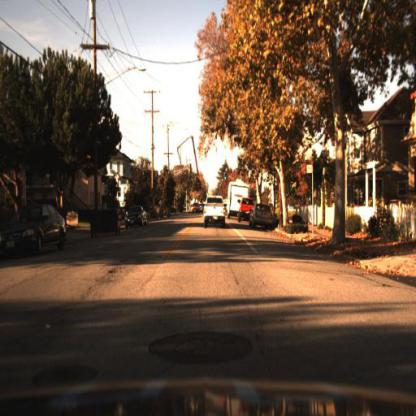car: (0, 200, 67, 262), (196, 191, 226, 231), (245, 200, 274, 228), (122, 205, 151, 231), (235, 194, 255, 224)
truck: (227, 177, 252, 219)
